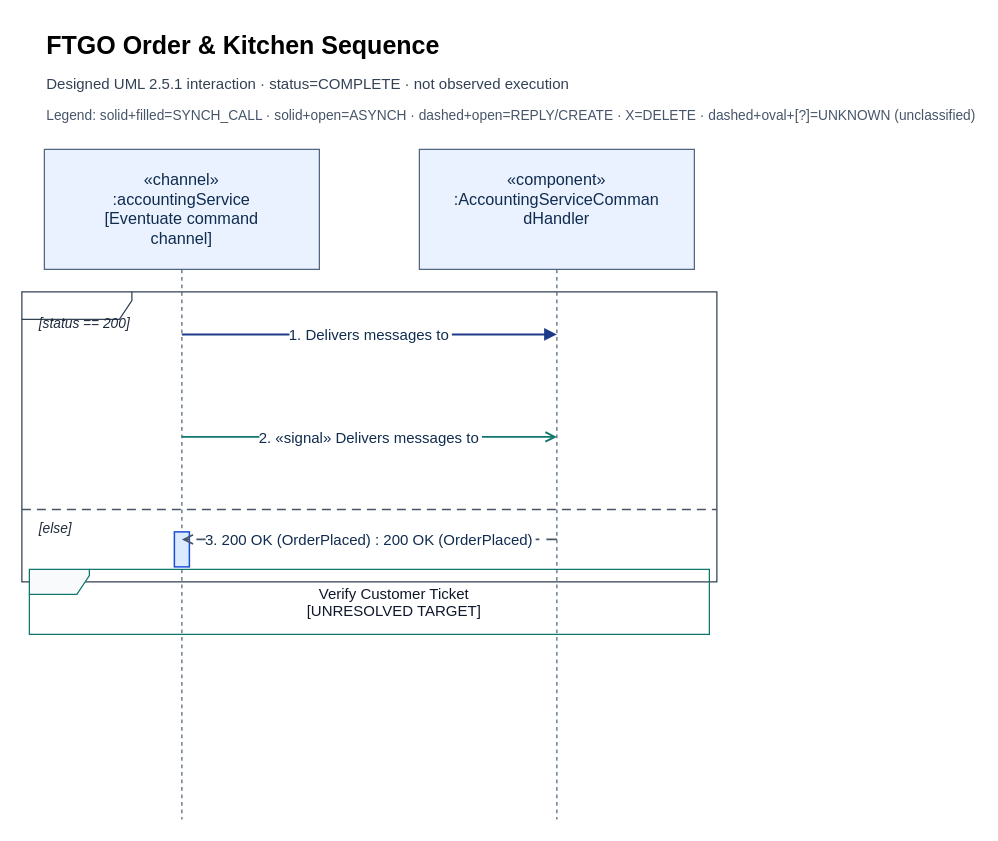
Image size: 998x841. Some labels were removed from this diagram. The box of each missing label's shape, as (x1, y1, x2, y2) in pixels:
alt: (21, 291, 717, 582)
ref: (28, 568, 709, 634)
